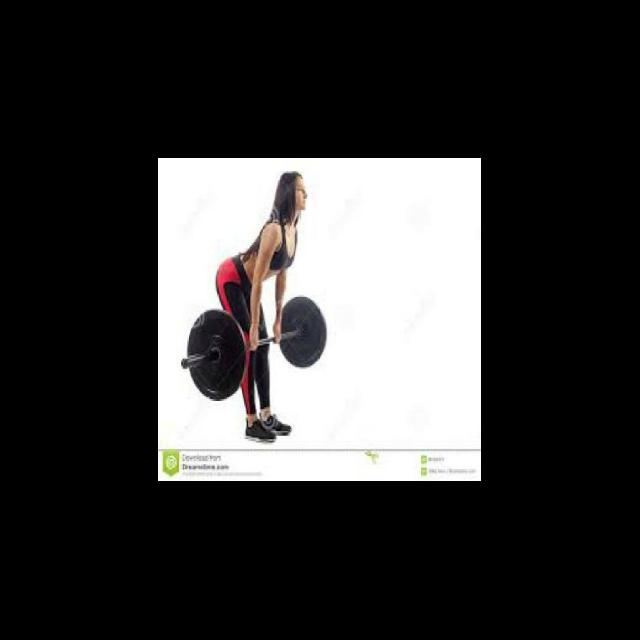barbell: (180, 308, 249, 402)
